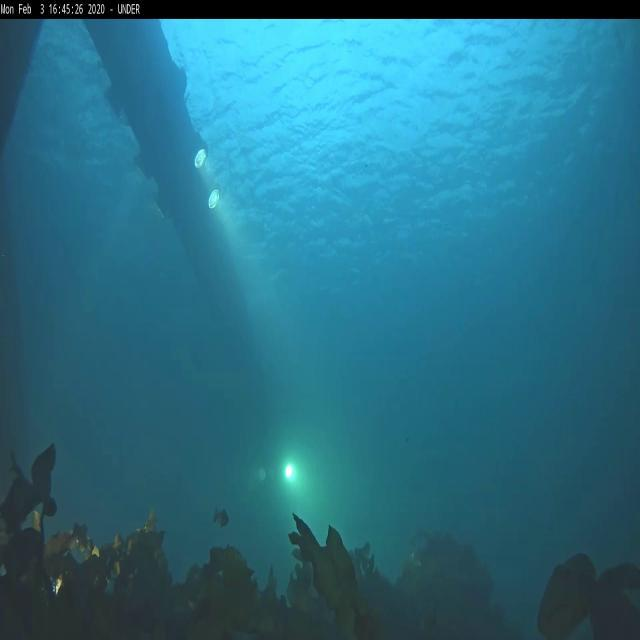fish: (212, 508, 230, 526)
